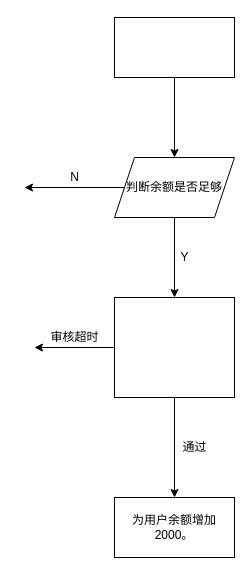
Image size: 252x575. Some labels were removed from this diagram. The shapes that lost their labels are listed below. From the top down, each one's centre as x and y in pixels, then its label:
At point (174, 47): "发表文章".
At point (174, 347): "放入预审池中，等待拥有审核资格的用户投票，达到10时，发表成功。两天超时。".
